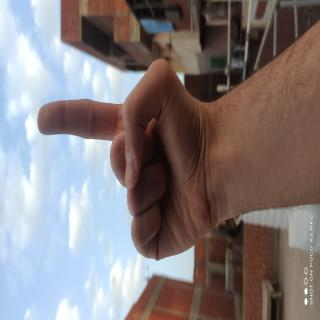BAA: (23, 72, 121, 320)
